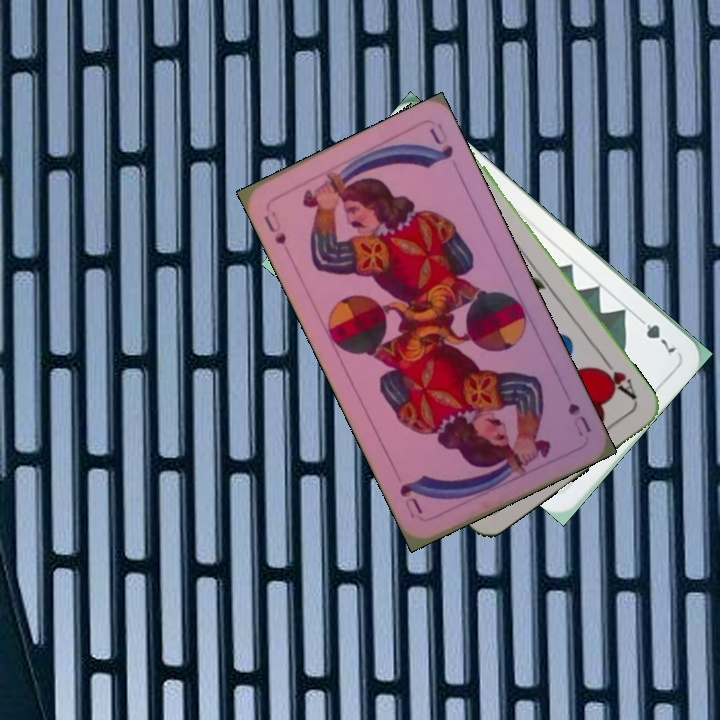G7: (632, 311, 679, 356)
HA: (594, 353, 640, 403)
SU: (563, 398, 594, 439), (260, 207, 289, 248)
